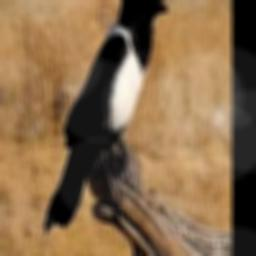Crow: (43, 0, 168, 234)
